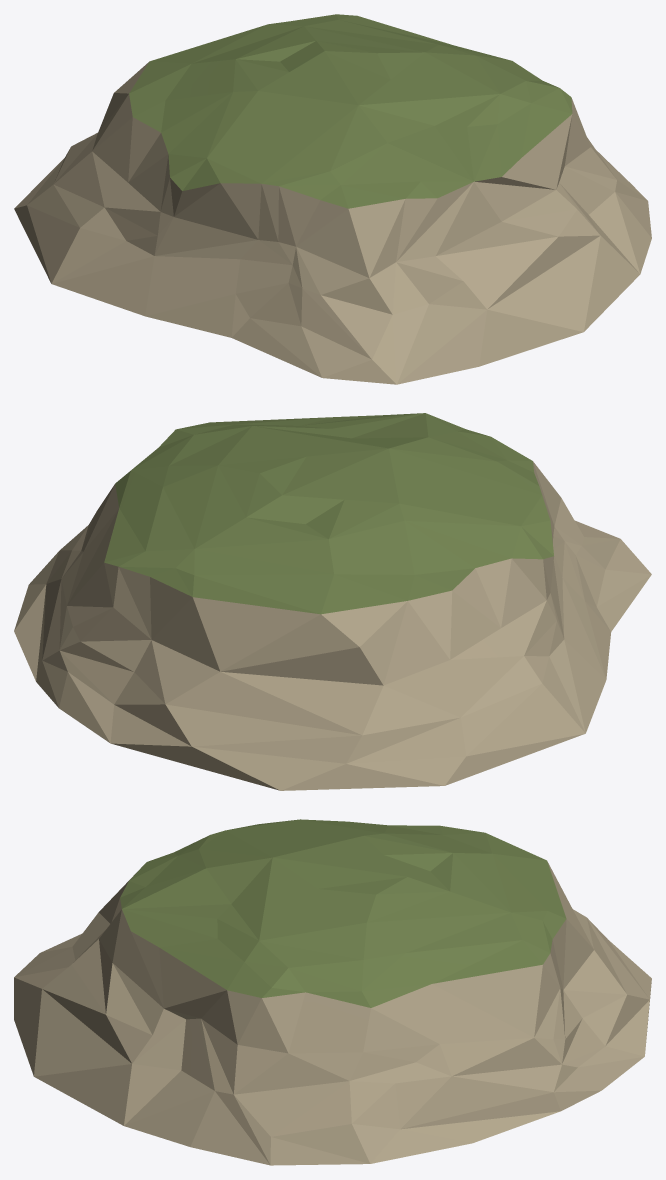
The model's file is SM_Terrain_GrassEdge_04.glb.
3 views of the same model, one above another, from view 1: azimuth 30°, elevation 25°; view 2: azimuth 150°, elevation 25°; view 3: azimuth 270°, elevation 25° (orthographic). The views are drawn at different scales.
Parts seen in each view (by area): view 1: SM_Terrain_GrassEdge_04; view 2: SM_Terrain_GrassEdge_04; view 3: SM_Terrain_GrassEdge_04.
Part boxes in pixels (box(x1,y1,x2,y2)): SM_Terrain_GrassEdge_04: box(14, 14, 651, 384); SM_Terrain_GrassEdge_04: box(14, 413, 651, 790); SM_Terrain_GrassEdge_04: box(14, 819, 651, 1165).
Size of the model in its own units: 6.76 by 2 by 6.93.
1 material, 1 textured.
